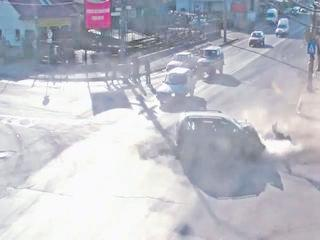Car: (178, 112, 254, 159), (156, 69, 194, 103), (240, 121, 276, 155), (200, 47, 224, 76), (166, 52, 198, 73), (249, 31, 265, 47), (276, 18, 289, 37)
Major Accident: (176, 110, 279, 161)
Not Accident: (149, 51, 198, 105)
